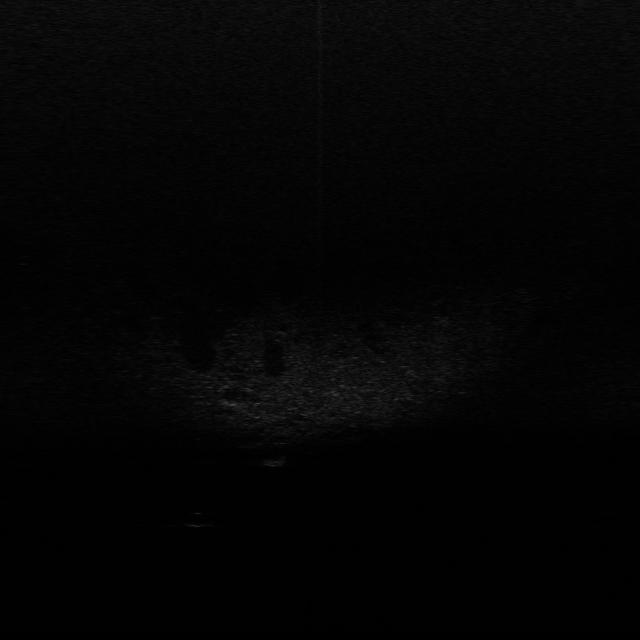ball: (182, 508, 214, 530)
cube: (262, 448, 290, 470)
